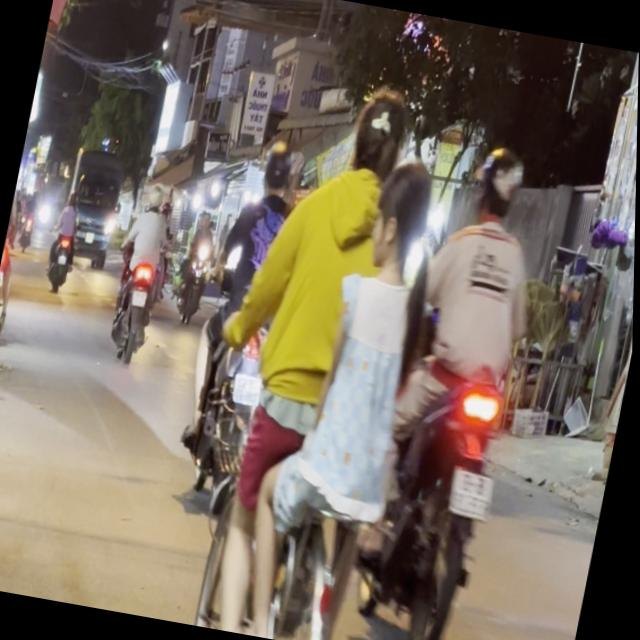helmet: (471, 140, 531, 226), (260, 138, 299, 199)
licenseplate: (344, 130, 567, 640), (167, 128, 311, 512)
nohelmet: (448, 465, 498, 518), (232, 371, 266, 404)
